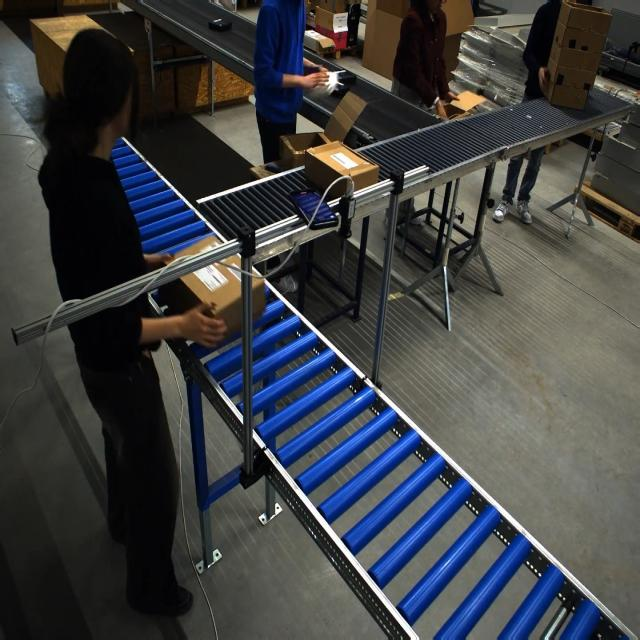box: (156, 236, 262, 340), (305, 141, 373, 198), (549, 80, 594, 111), (443, 90, 489, 120)
product: (321, 69, 356, 97), (208, 18, 232, 31)
